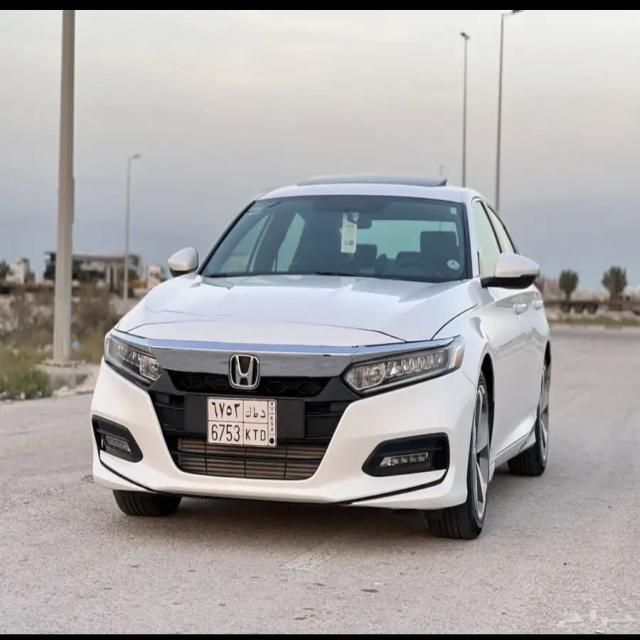license_plate: (207, 396, 279, 456)
